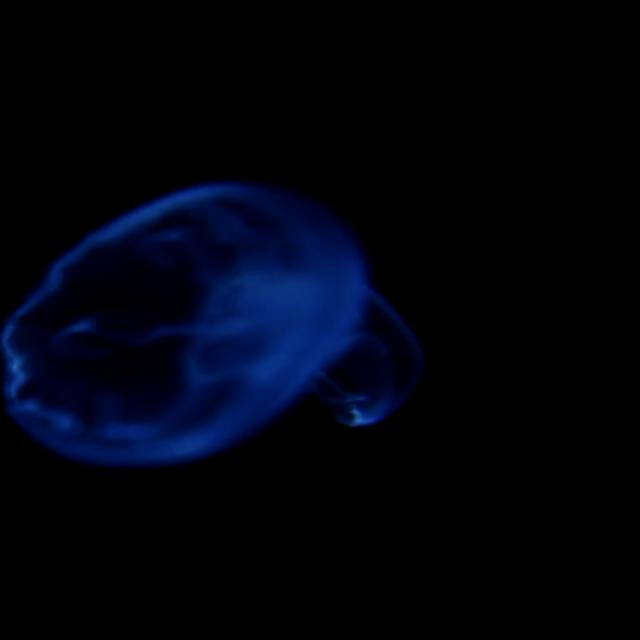Moon-jellyfish: (0, 179, 431, 474)
